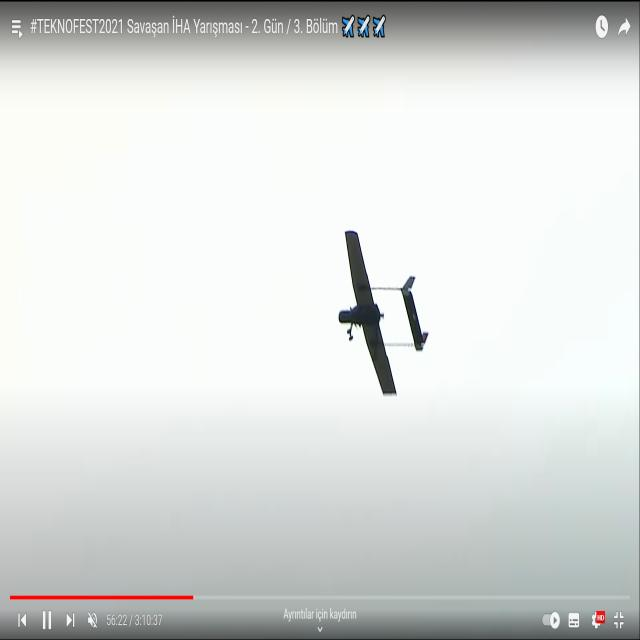iha: (370, 228, 396, 398)
